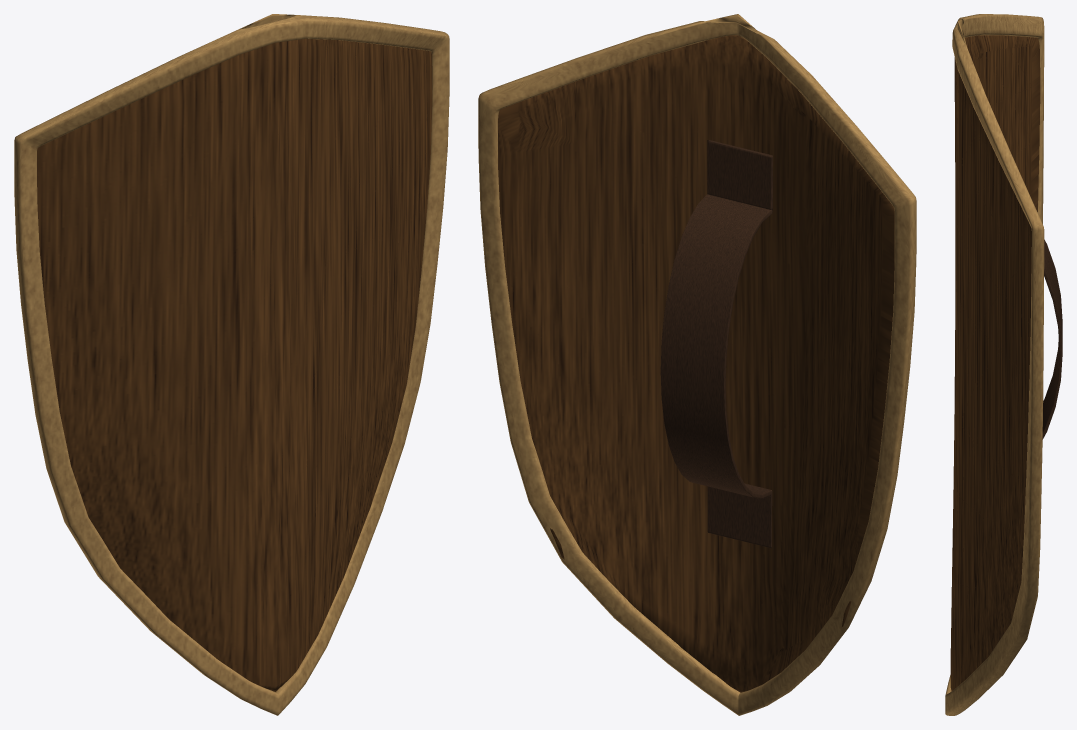
File: escudo_medieval.glb
The picture shows the model from 3 angles, left to right: view 1: azimuth 30°, elevation 25°; view 2: azimuth 150°, elevation 25°; view 3: azimuth 270°, elevation 25°; orthographic projection.
Parts seen in each view (by area): view 1: shield, metal; view 2: shield, metal, agarre; view 3: shield, metal, agarre.
Part boxes in pixels (bbox=[...]): shield: bbox=[37, 38, 432, 691]; metal: bbox=[14, 14, 449, 715]; shield: bbox=[498, 35, 894, 692]; metal: bbox=[478, 14, 916, 715]; agarre: bbox=[660, 140, 772, 548]; shield: bbox=[950, 35, 1040, 691]; metal: bbox=[945, 14, 1044, 715]; agarre: bbox=[1042, 239, 1062, 439].
Size of the model in its own units: 0.64 by 0.9896 by 0.1515.
3 materials, 3 textured.
